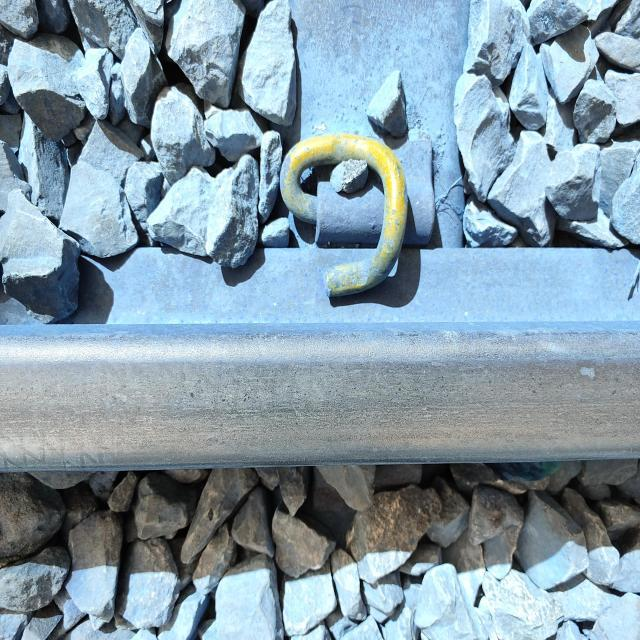Good Fasteners: (274, 118, 445, 305)
